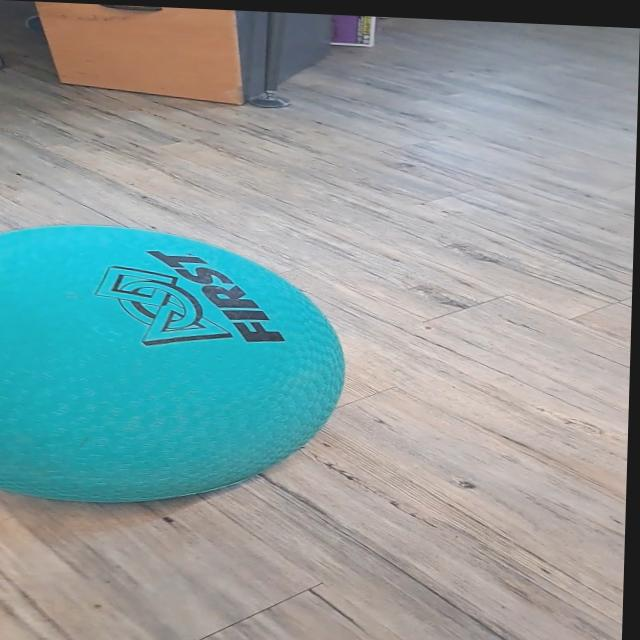ALGAE: (0, 219, 351, 515)
